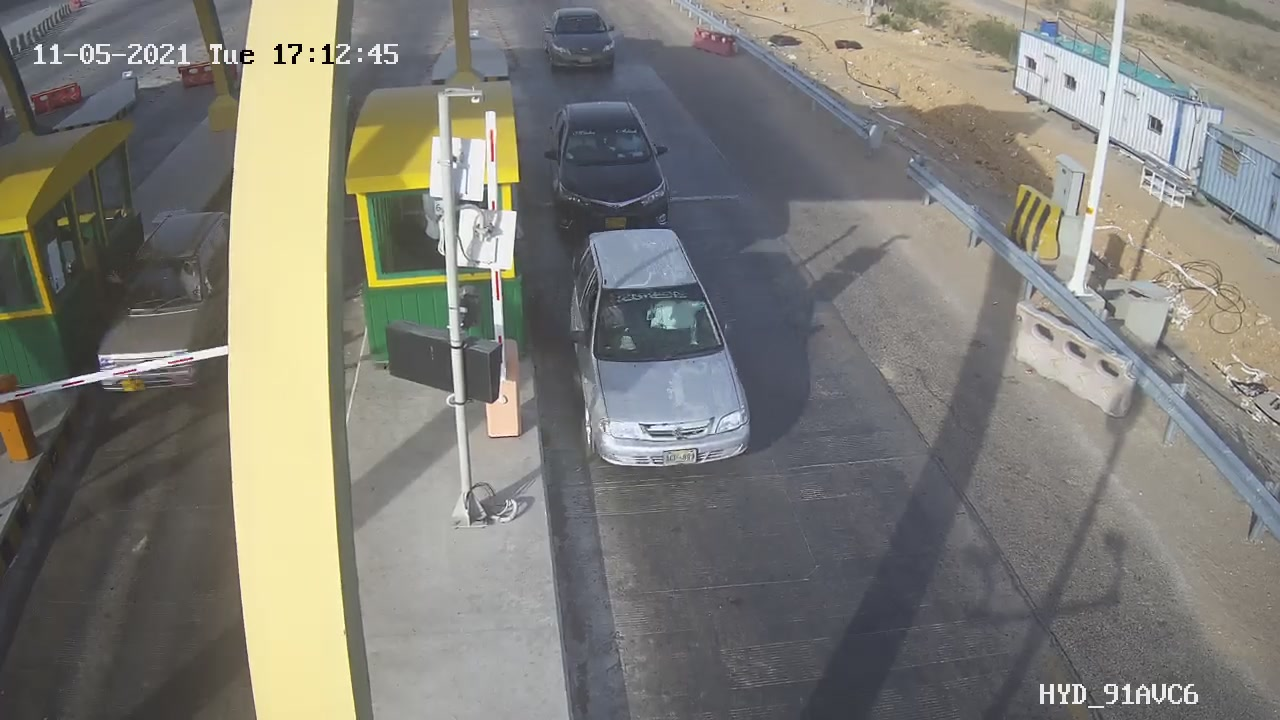F1: (550, 214, 774, 486), (537, 88, 689, 253)
